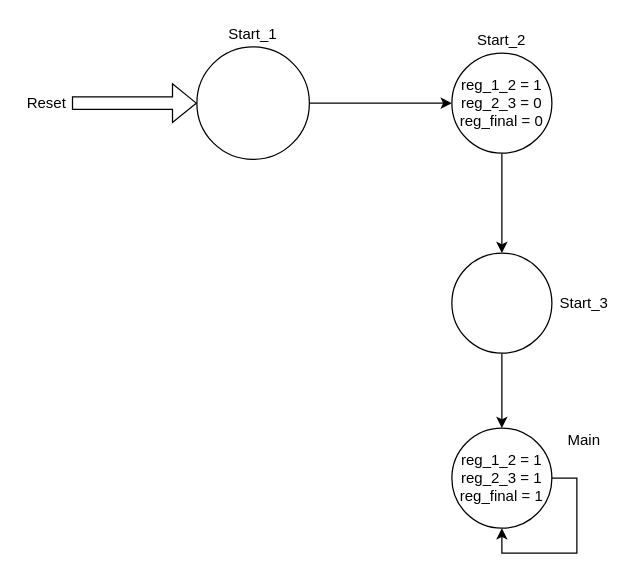
The diagram is 630 pixels wide and 585 high, and some of its shapes have lost their labels. The box of each missing label's shape, as (x1, y1, x2, y2) in pixels:
reg_1_2 = 0 reg_2_3 = 0 reg_final = 0: (196, 46, 309, 159)
reg_1_2 = 1 reg_2_3 = 1 reg_final = 0: (451, 252, 552, 353)
